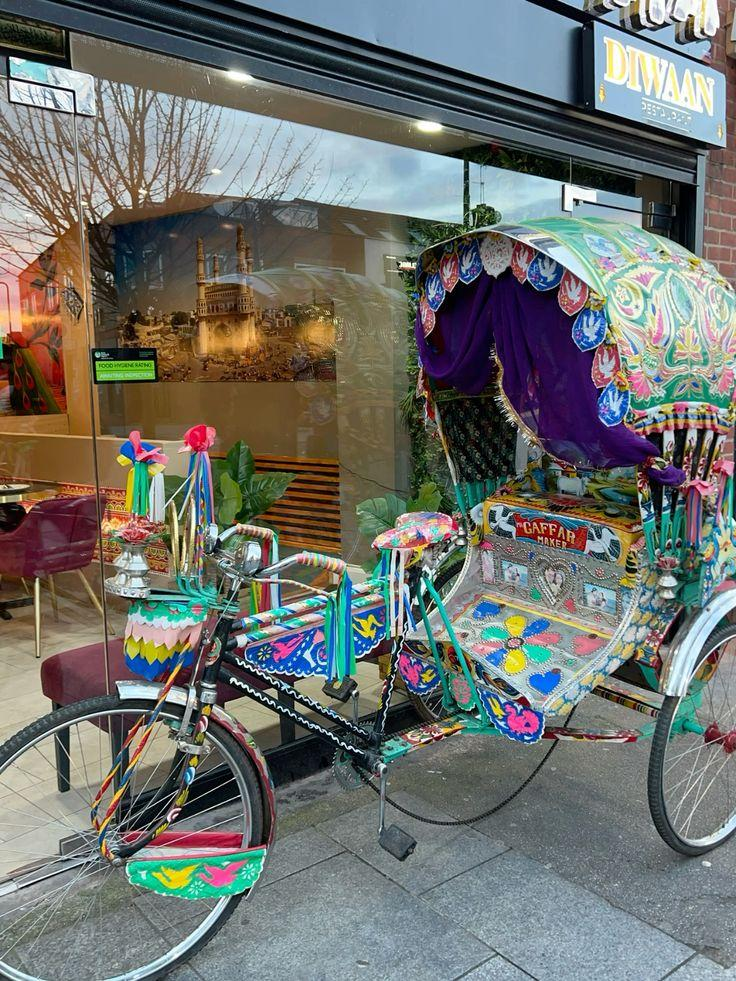Rickshaw: (0, 218, 735, 980)
